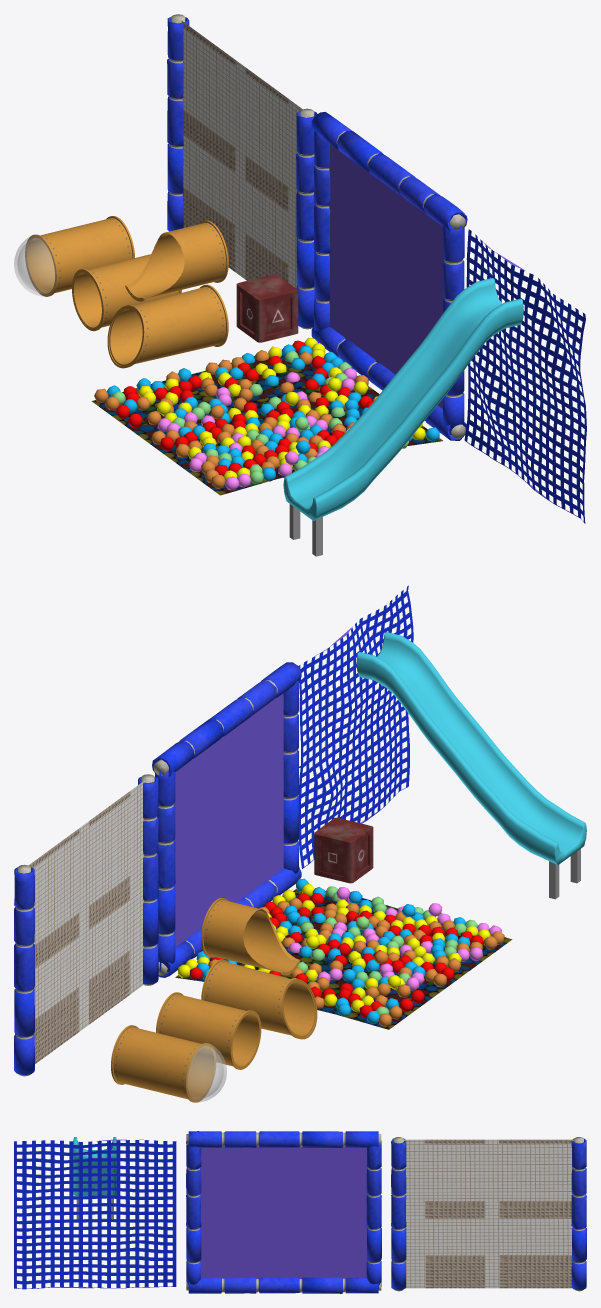
Rendered from PlayAreaProps.fbx.
The picture shows the model from 3 angles, top to bottom: view 1: azimuth 30°, elevation 25°; view 2: azimuth 150°, elevation 25°; view 3: azimuth 270°, elevation 25°; orthographic projection. The views are drawn at different scales.
Parts seen in each view (by area): view 1: Wall, RopeWall, Ballpit, Net, Slide, PlayTube_Bend, PlayTube_Closed, PlayTube_End, PlayTube_Straight, PlayCube; view 2: Wall, RopeWall, Ballpit, Slide, Net, PlayTube_Closed, PlayTube_Bend, PlayTube_Straight, PlayTube_End, PlayCube; view 3: Wall, RopeWall, Net, Slide.
Boxes of the visible parts, x1,y1,x2,y2 form: Wall: [311, 112, 467, 440]; RopeWall: [167, 14, 317, 329]; Ballpit: [91, 337, 442, 495]; Net: [464, 229, 586, 523]; Slide: [283, 278, 523, 556]; PlayTube_Bend: [107, 284, 228, 368]; PlayTube_Closed: [14, 216, 134, 296]; PlayTube_End: [125, 220, 228, 301]; PlayTube_Straight: [72, 254, 181, 331]; PlayCube: [236, 274, 298, 342]; Wall: [152, 662, 301, 977]; RopeWall: [14, 774, 158, 1076]; Ballpit: [175, 878, 512, 1029]; Slide: [356, 632, 586, 899]; Net: [298, 585, 413, 868]; PlayTube_Closed: [111, 1025, 226, 1102]; PlayTube_Bend: [201, 959, 317, 1039]; PlayTube_Straight: [156, 992, 261, 1069]; PlayTube_End: [201, 898, 300, 975]; PlayCube: [314, 817, 373, 883]; Wall: [186, 1131, 381, 1293]; RopeWall: [391, 1137, 586, 1291]; Net: [14, 1139, 176, 1289]; Slide: [73, 1137, 116, 1219].
Bounding box in the file's own units: 600 × 548 × 1747.
